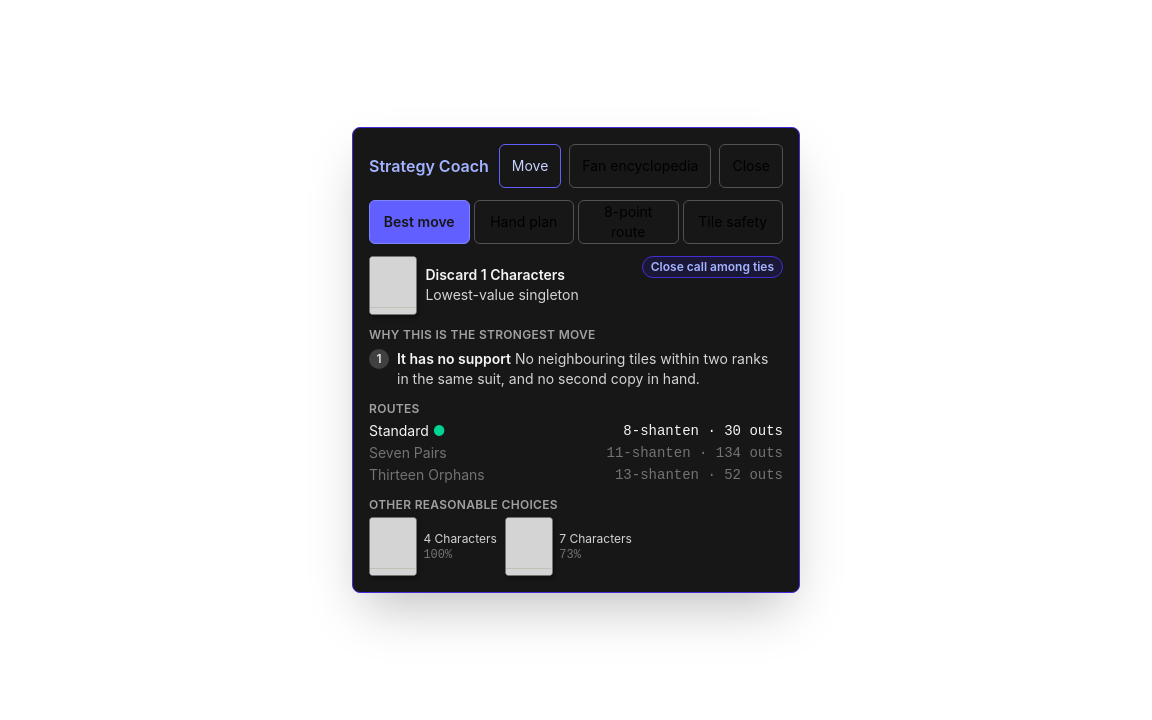
Scenario: HintPanel › switches among all four tabs with correct selection state
Click the tab "Hand plan" at coordinates (524, 222), box [474,200,574,244]
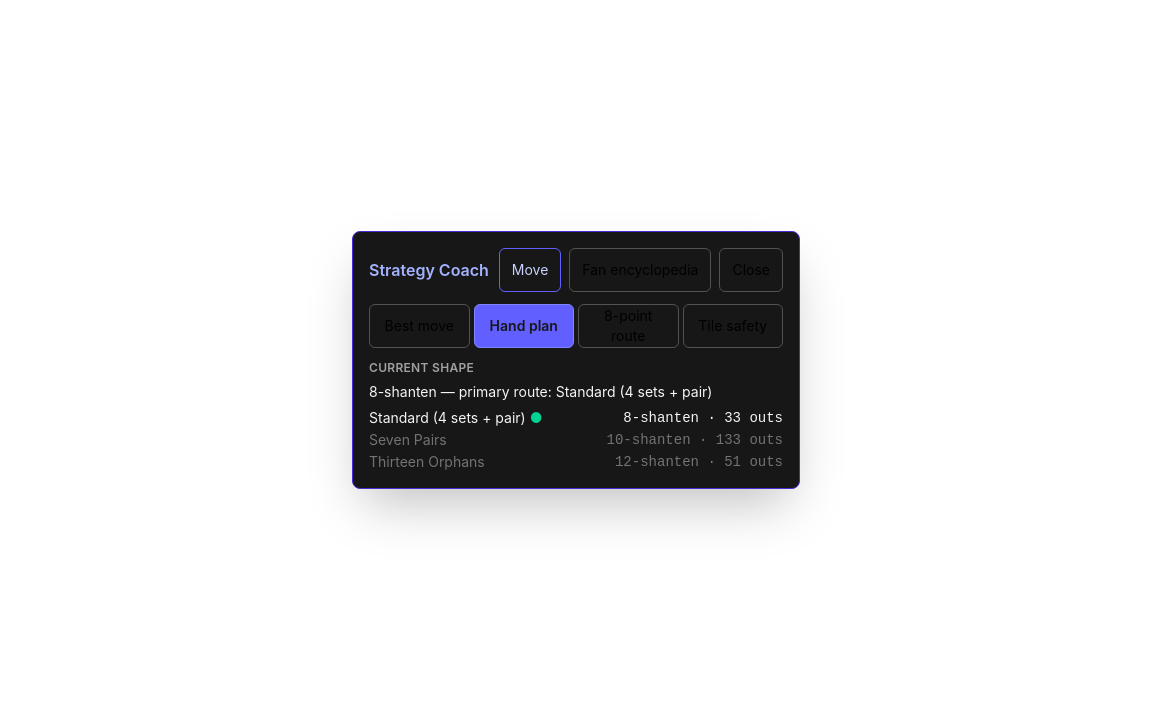
Check: the list named "Route table" is shown, box [369,408,783,472]
Click the tab "8-point route" at coordinates (628, 326), box [578,304,678,348]
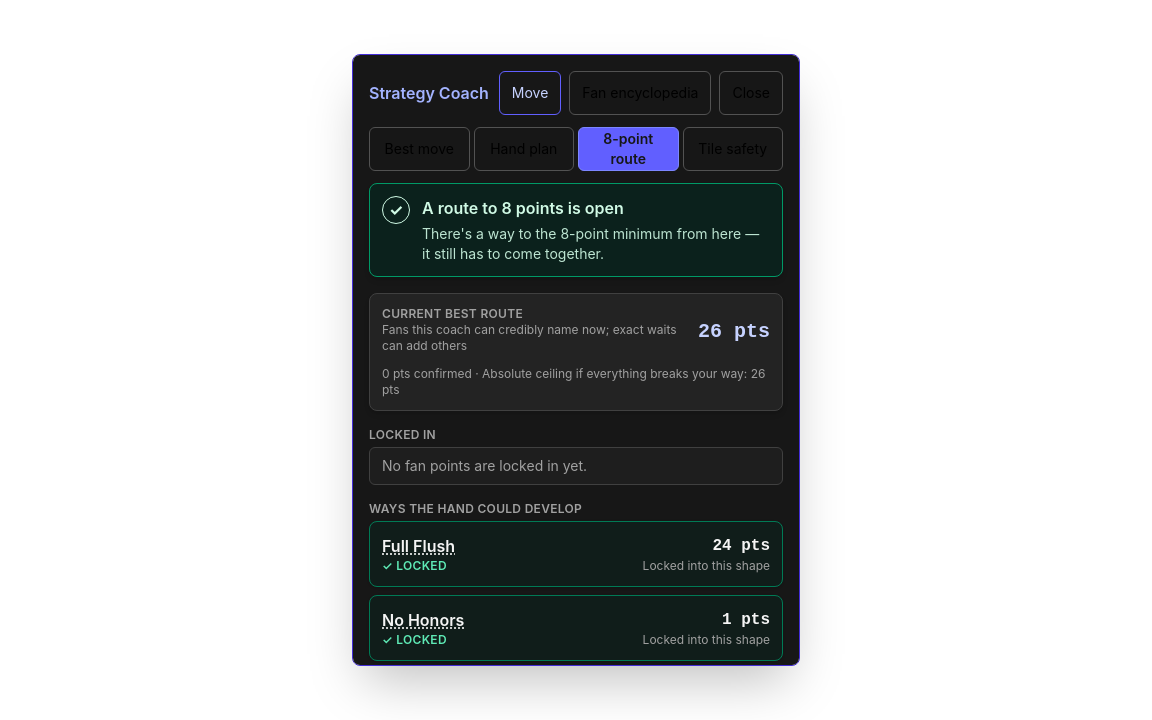
Check: the element with test id "route-to-points-panel" is shown, box [369,183,783,666]
Click the tab "Tile safety" at coordinates (733, 149), box [682,127,783,171]
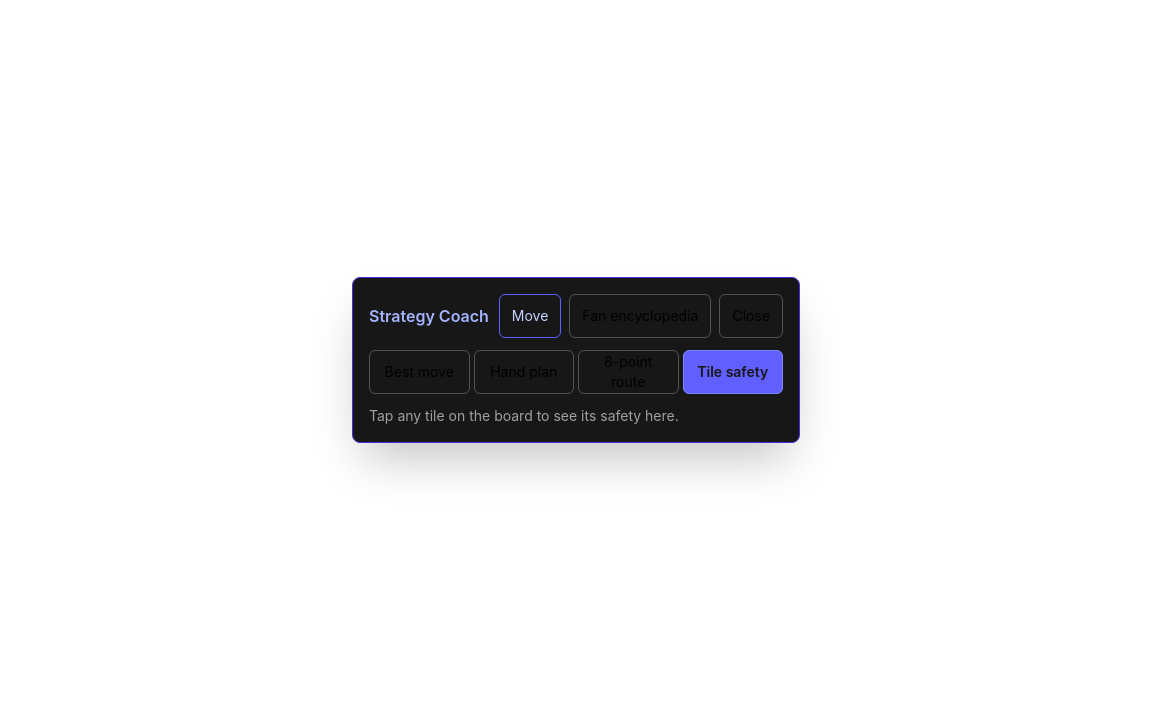
Check: the text "Tap any tile on the board to see its safety here." is shown, box [369,407,679,424]
